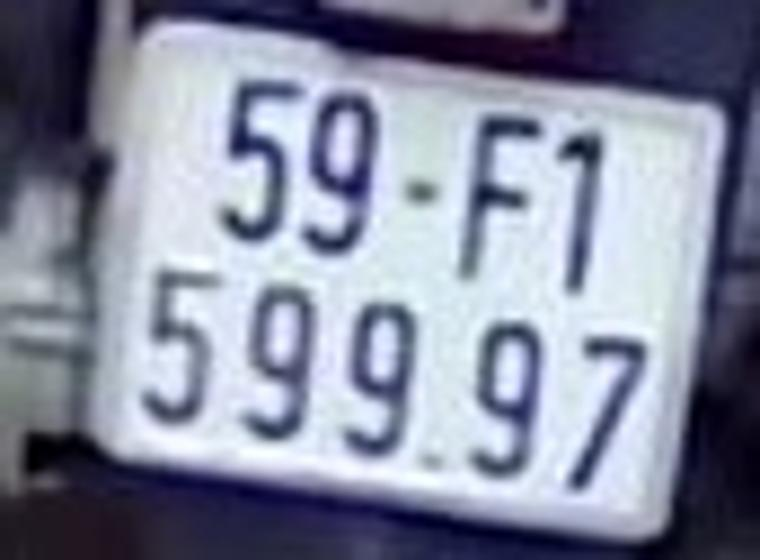-: (398, 174, 445, 220)
.: (413, 438, 457, 482)
1: (544, 120, 610, 300)
5: (144, 252, 223, 437), (219, 81, 297, 248)
7: (562, 326, 657, 499)
9: (298, 88, 394, 261), (233, 275, 321, 451), (343, 297, 424, 464), (466, 314, 546, 483)
F: (460, 106, 540, 284)
